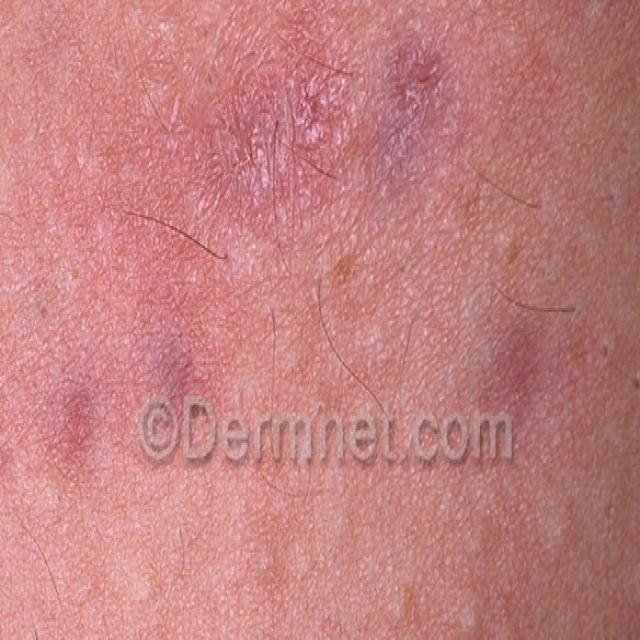Acne: (106, 12, 482, 213), (27, 342, 205, 493), (488, 295, 569, 448), (238, 537, 303, 599)
